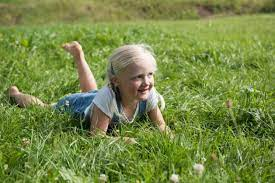child: (8, 38, 176, 138)
